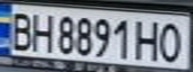1: (112, 16, 133, 60)
8: (54, 11, 75, 55), (72, 14, 93, 56)
9: (90, 15, 115, 58)
B: (3, 8, 36, 52)
H: (133, 17, 163, 62), (27, 10, 57, 53)
O: (154, 19, 190, 63)
